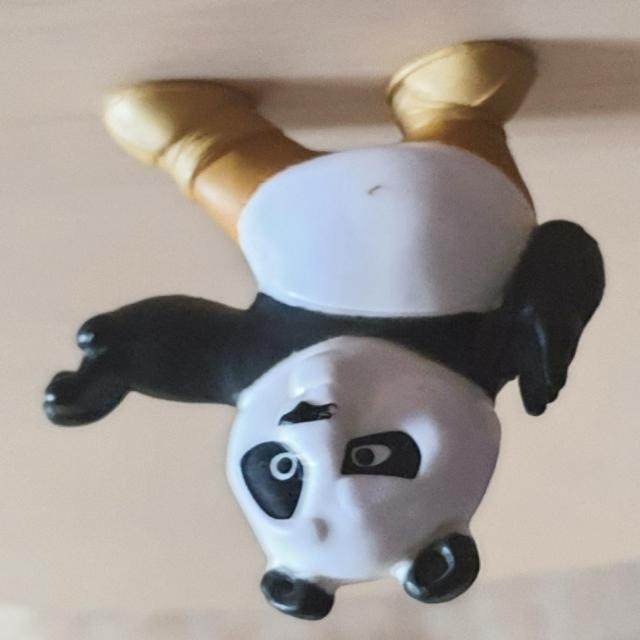Panda: (42, 40, 606, 622)
